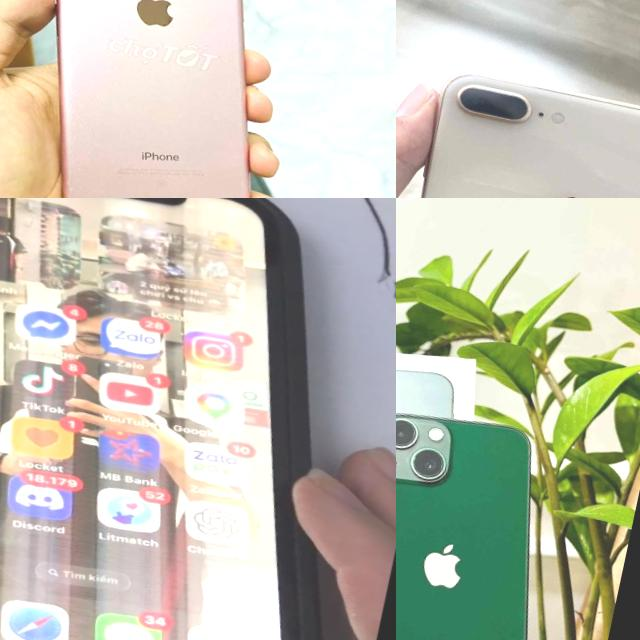scratch: (60, 175, 82, 198), (237, 178, 250, 190), (157, 190, 174, 198), (104, 158, 117, 168)
screen_defect: (0, 285, 309, 526), (0, 440, 316, 640), (0, 198, 308, 368), (0, 598, 212, 640)
